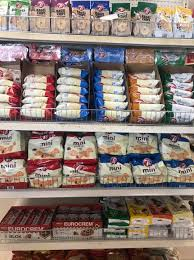7days: (99, 155, 133, 187), (132, 156, 164, 187), (29, 135, 61, 163), (63, 160, 96, 187), (65, 134, 97, 161)
